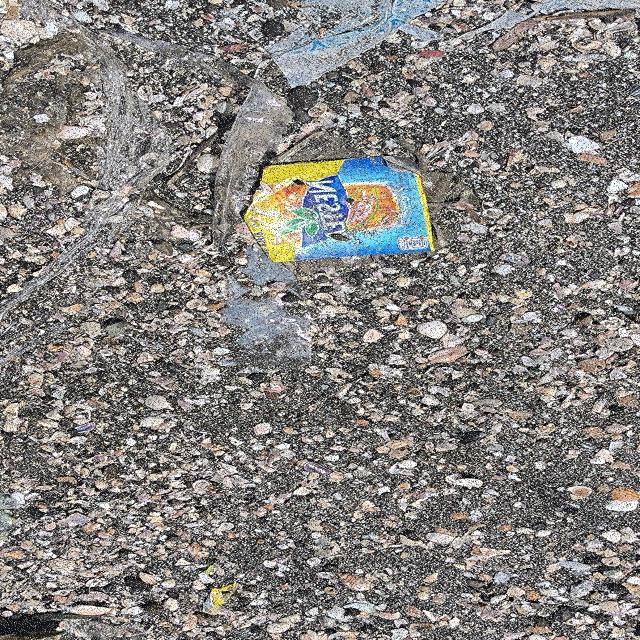plastic_waste: (243, 155, 436, 265), (249, 1, 446, 91)
